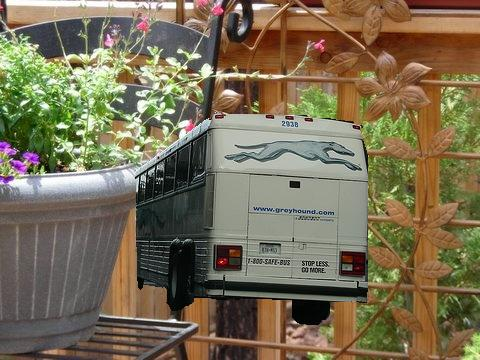tampered: (136, 112, 368, 325)
